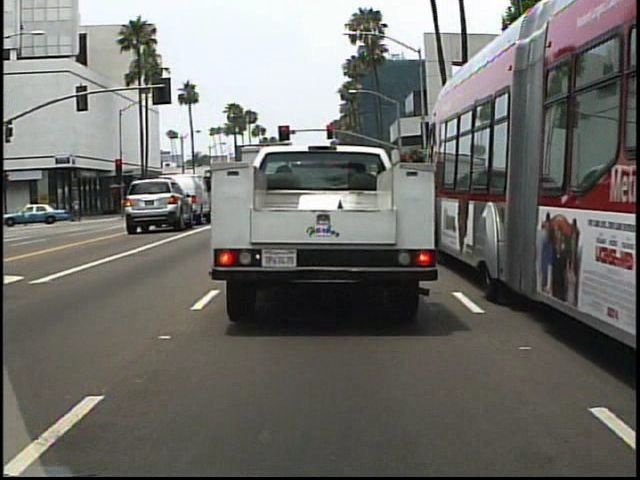person: (39, 194, 59, 226)
